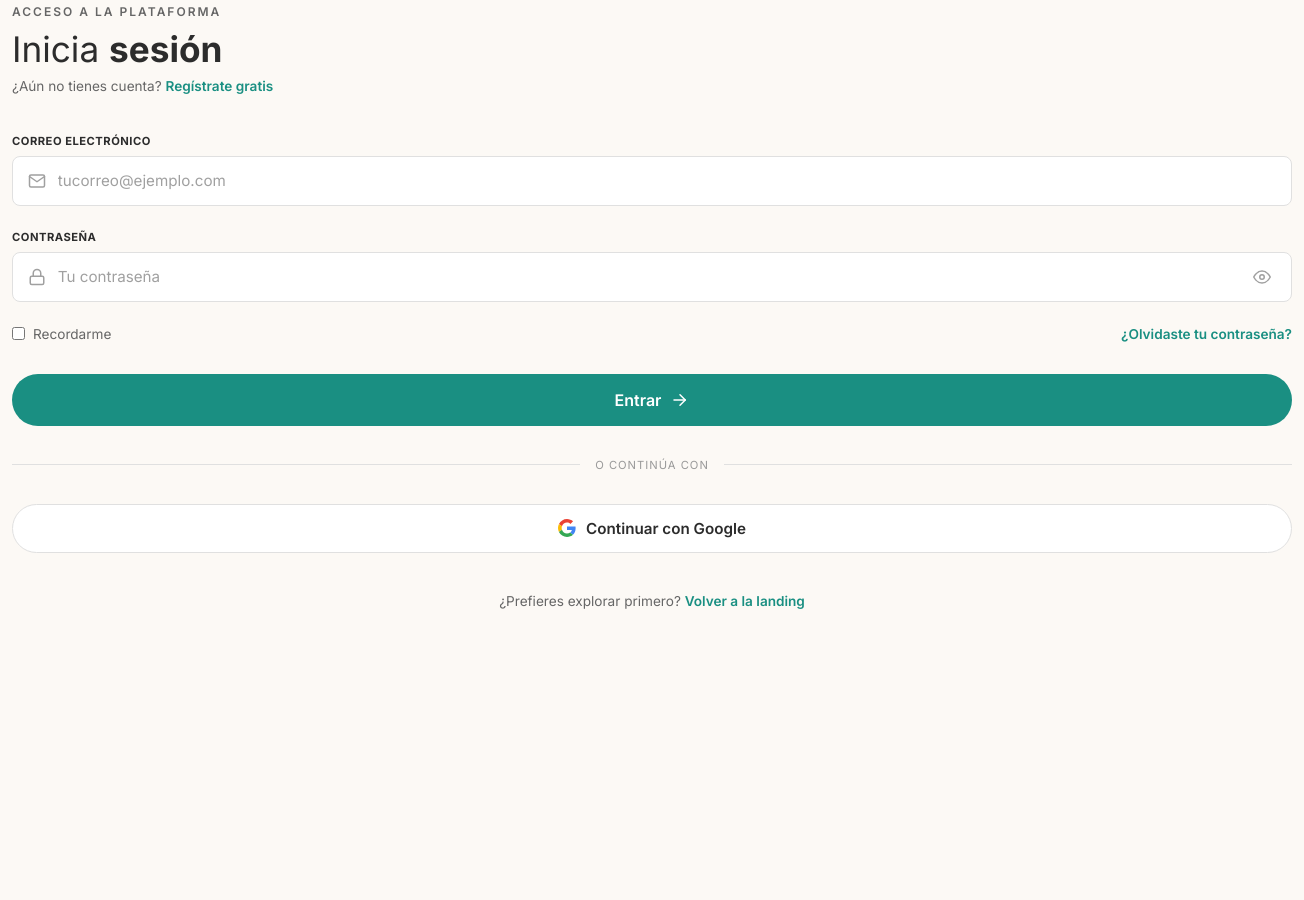
LoginForm › rechaza el envío con el correo vacío
This screenshot has width=1304, height=900.
Click the button "Entrar" at (652, 400), box [12,374,1292,426]
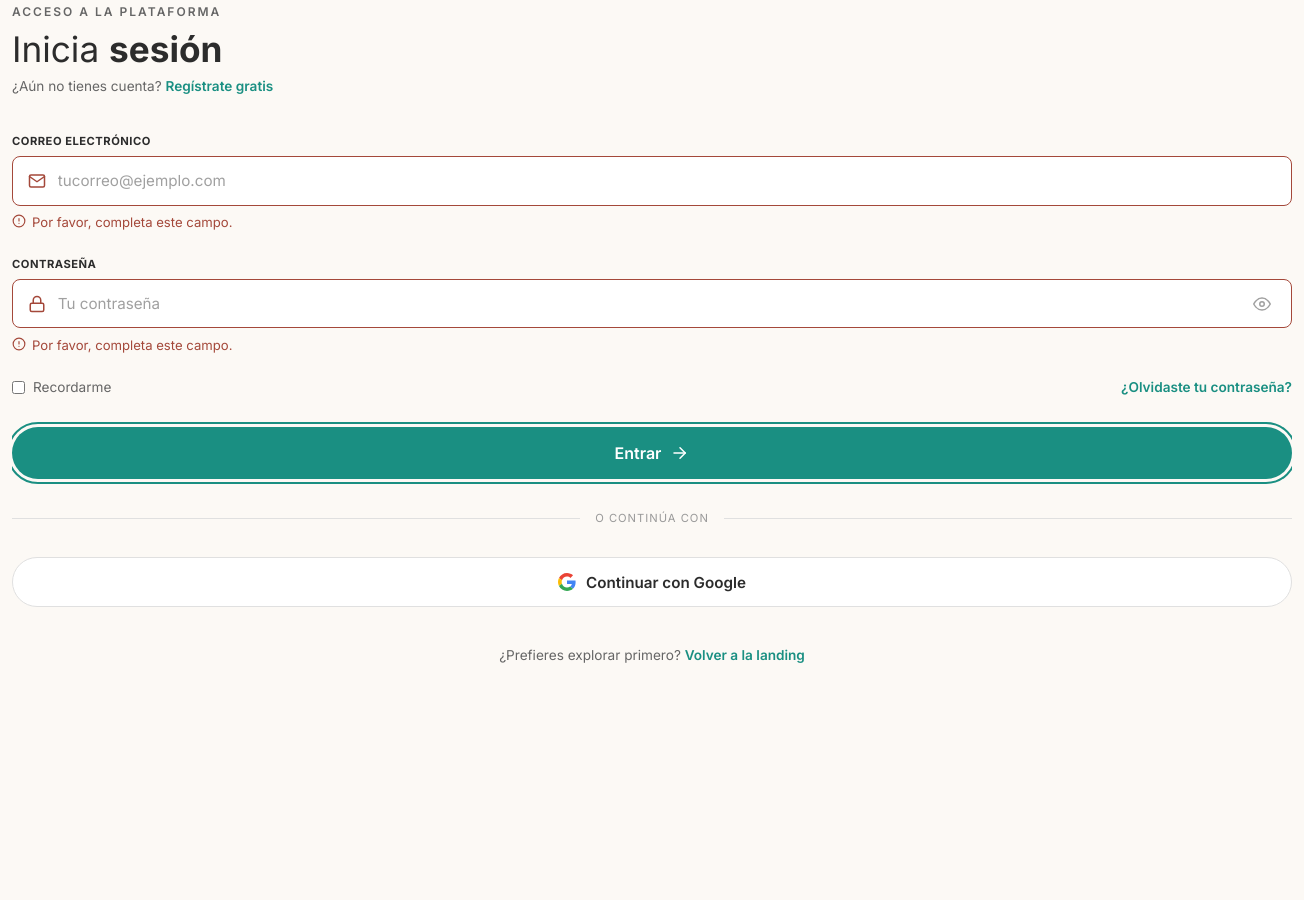
Check: the text "Por favor, completa este campo." below "CORREO ELECTRÓNICO" is shown, box [32,214,232,230]
